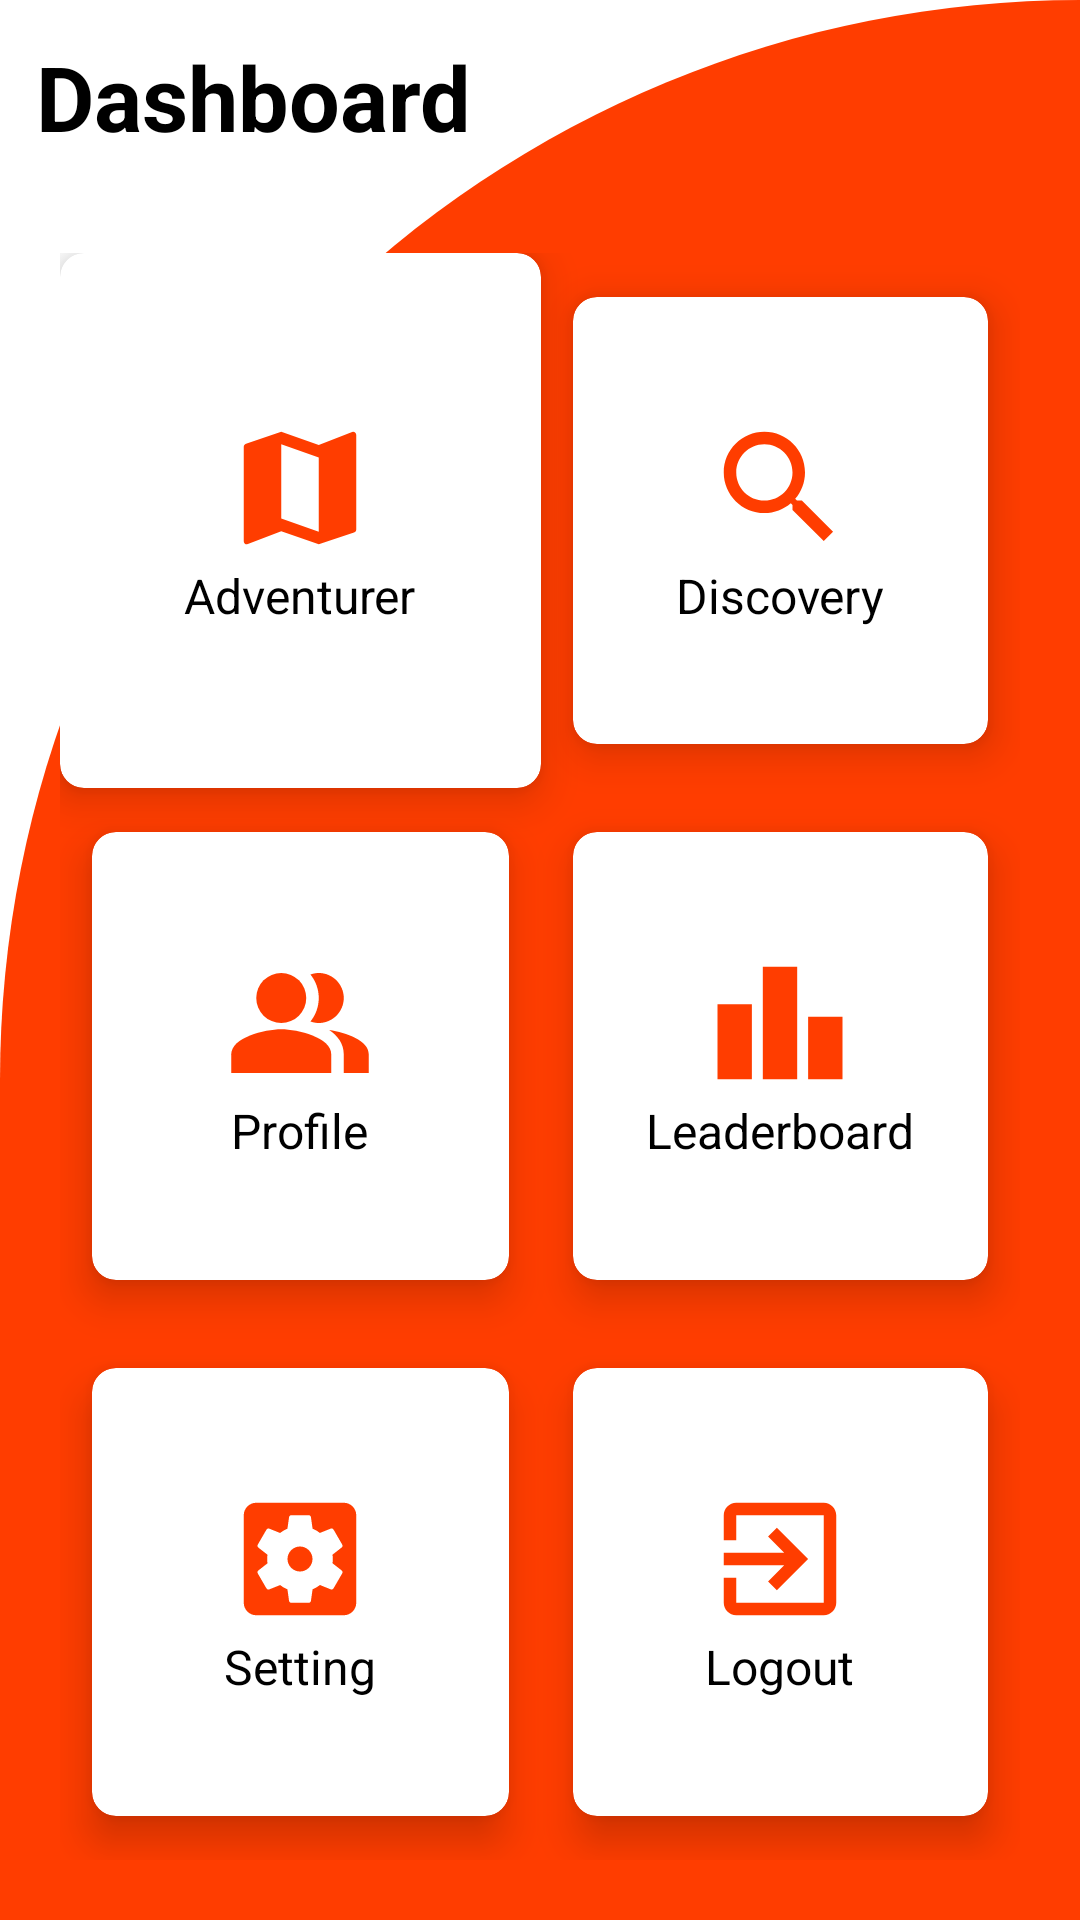

Point at icon controls on the screen. Image size 1080×1920, points as point (x, y).
multiplayer: point (300, 1023)
